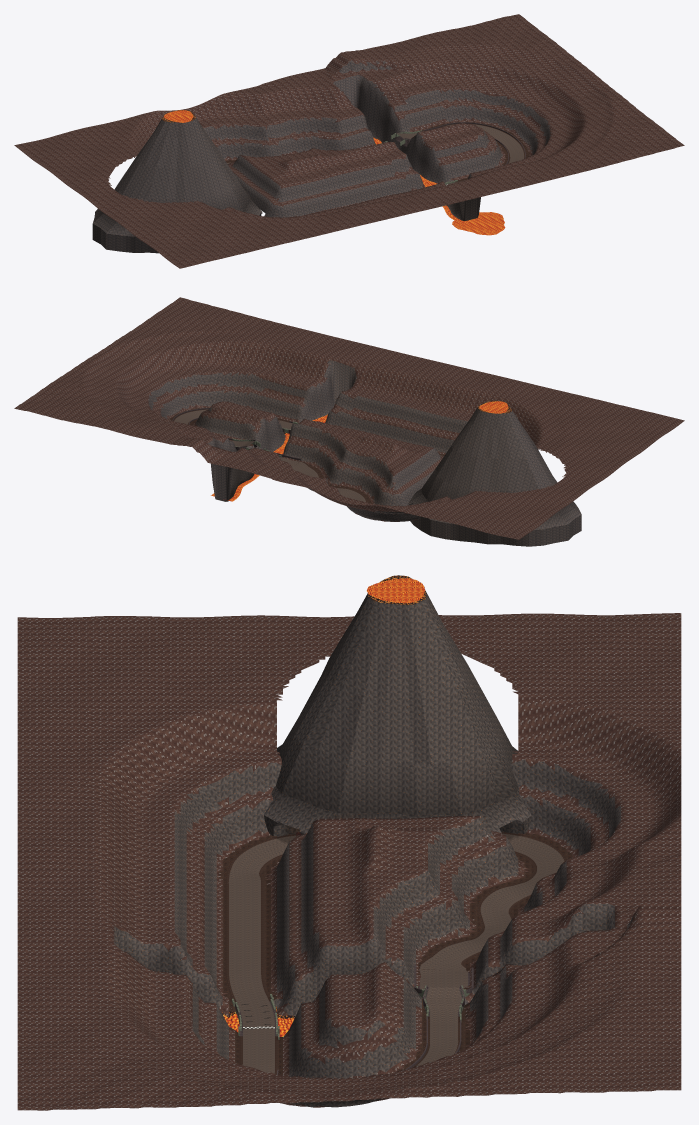
3 views of the same model, one above another, from view 1: azimuth 30°, elevation 25°; view 2: azimuth 150°, elevation 25°; view 3: azimuth 270°, elevation 25° (orthographic). The views are drawn at different scales.
Parts seen in each view (by area): view 1: Valley, Volcano, Road 03 ledge, Lava Lake; view 2: Valley, Volcano, Road 07 path; view 3: Valley, Volcano, Road 09 path, Road 07 path, Road 03 ledge, Road 02 path, Crater Lava, Road 04 ramp, Road 06 landing, Road 10 lowbridge.
Part boxes in pixels (x1,y1,x2,y2): Valley: (14,14,684,268); Volcano: (92,110,262,253); Road 03 ledge: (422,122,525,164); Lava Lake: (452,212,505,235); Valley: (14,297,684,539); Volcano: (408,401,581,546); Road 07 path: (292,461,367,502); Valley: (17,613,681,1110); Volcano: (264,575,531,836); Road 09 path: (225,834,296,1004); Road 07 path: (418,832,566,971); Road 03 ledge: (263,1016,461,1074); Road 02 path: (239,1036,278,1071); Crater Lava: (366,578,424,603); Road 04 ramp: (423,985,464,1016); Road 06 landing: (414,964,473,993); Road 10 lowbridge: (235,1001,276,1027).
Size of the model in its own units: 580 by 119 by 330.
11 materials, 11 textured.
